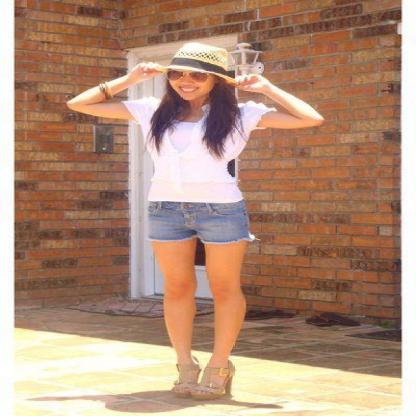hat: (139, 42, 233, 78)
shirt: (122, 96, 276, 202)
shoe: (174, 380, 236, 407)
shorts: (148, 199, 250, 245)
sunglass: (164, 68, 183, 90)
